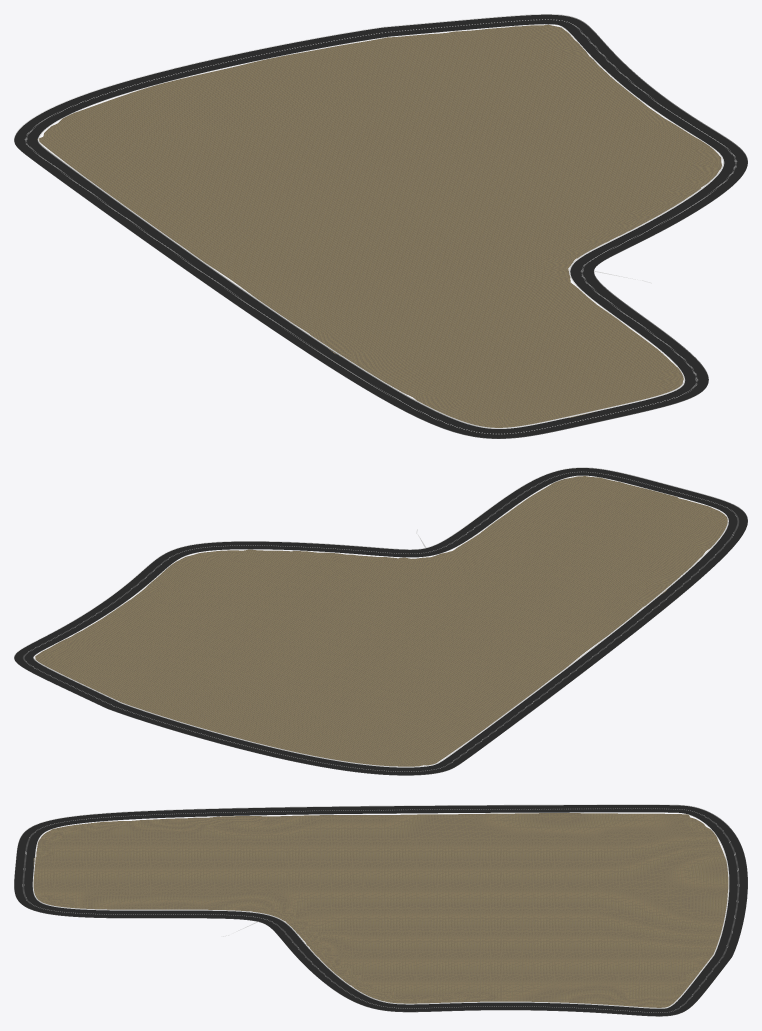
File: racetrack2.gltf
3 views of the same model, one above another, from view 1: azimuth 30°, elevation 25°; view 2: azimuth 150°, elevation 25°; view 3: azimuth 270°, elevation 25° (orthographic). The views are drawn at different scales.
Parts seen in each view (by area): view 1: Plane, Road; view 2: Plane, Road; view 3: Plane, Road.
Part boxes in pixels (x1,y1,x2,y2): Plane: (37,24,721,427); Road: (14,14,747,438); Plane: (35,476,727,766); Road: (14,467,747,775); Plane: (33,813,728,1007); Road: (14,804,747,1016).
Size of the model in its own units: 179 by 0.9113 by 262.
Materials: 3 (2 with a texture image).
